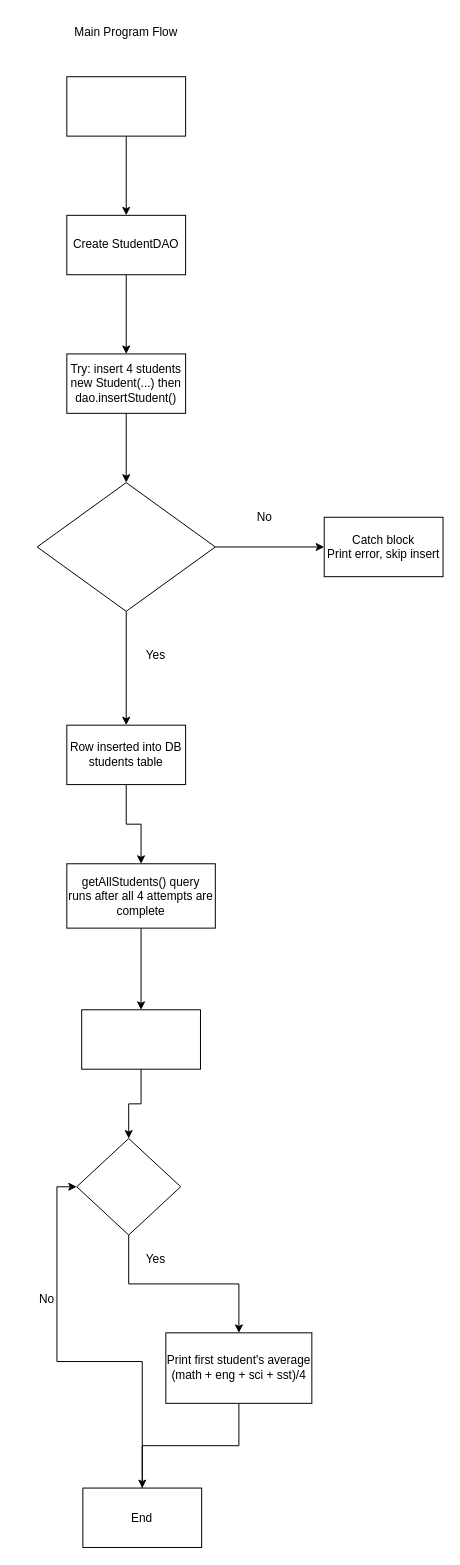
This 460x1565 diagram has some shape labels left out. Here are the shapes that lost their labels. From the top down, the centre of each, then its label:
At (x=126, y=106): "Start:main()".
At (x=125, y=546): "Score Valid (0-100)? checked in validateScore()".
At (x=140, y=1039): "Print all returned students".
At (x=128, y=1186): "Is list not empty?".
